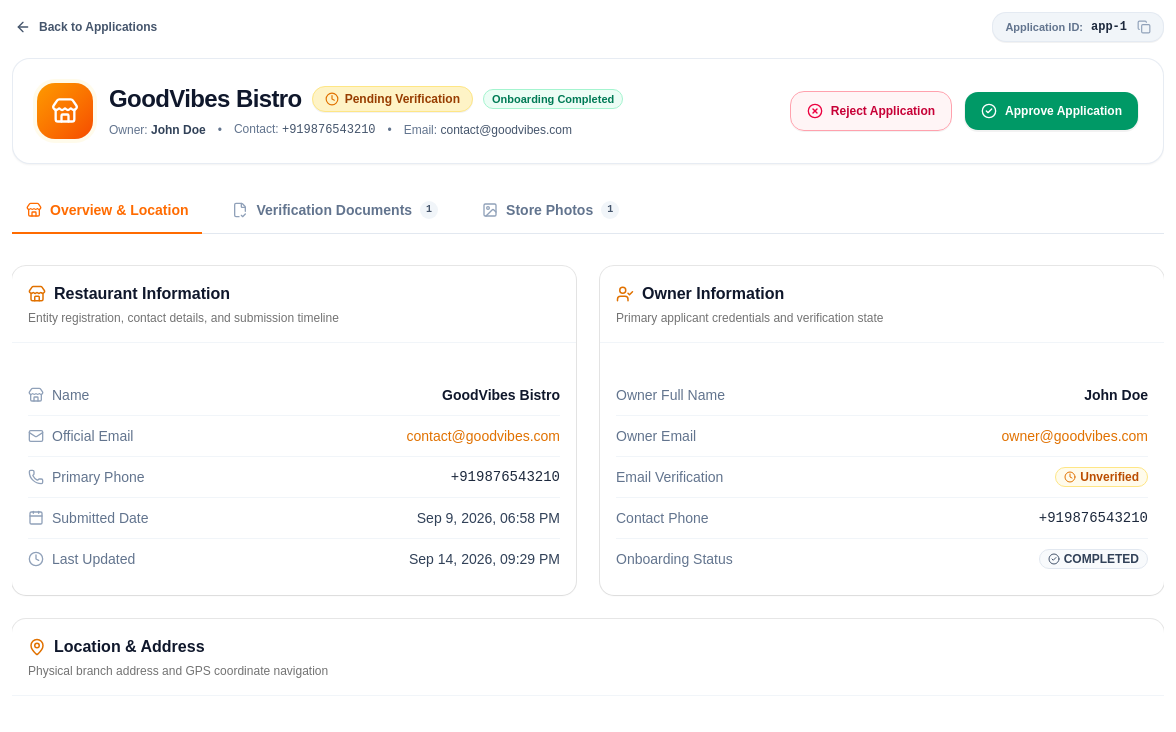
AdminRestaurantApplicationReviewPage › renders review details and switches between tabs
Check: the heading with test id "application-restaurant-name" reads "GoodVibes Bistro", box [109,85,302,112]
// Click Documents tab
Click the button with test id "review-tab-documents". click: (335, 211)
box: [218,188,452,234]
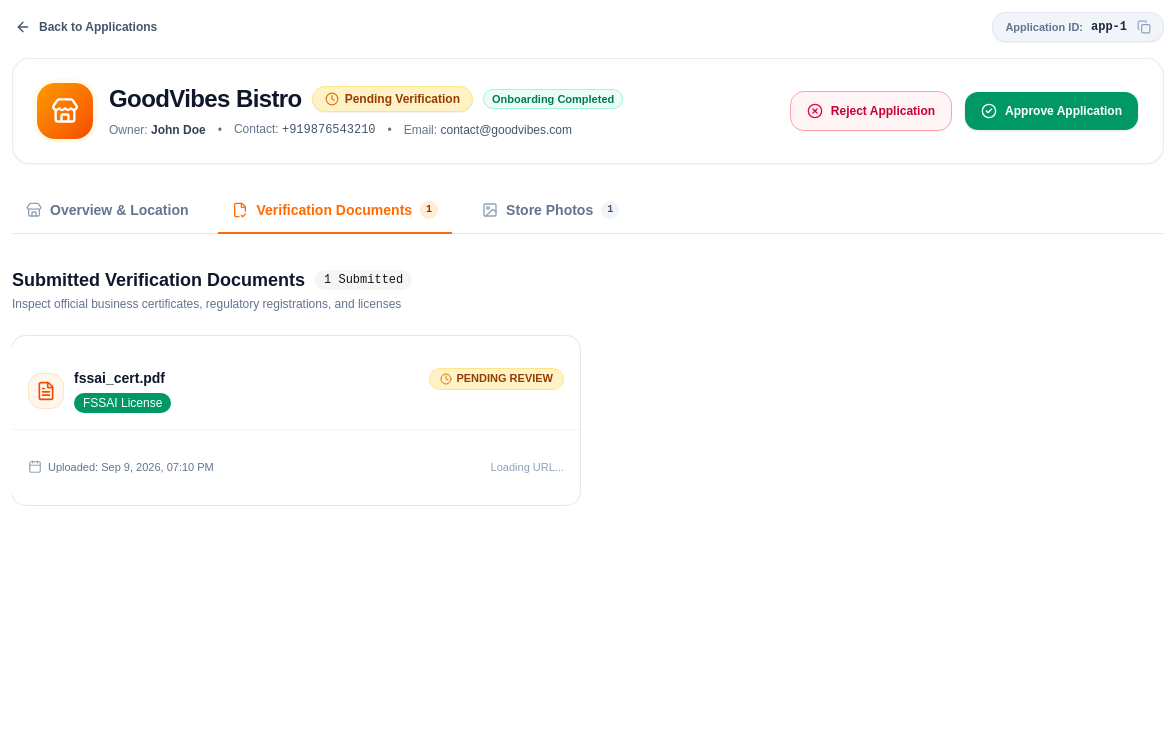
Check: the text "fssai_cert.pdf" is shown, box [74,368,171,388]
// Click Images tab
Click the button with test id "review-tab-images". click: (551, 211)
box: [468,188,633,234]
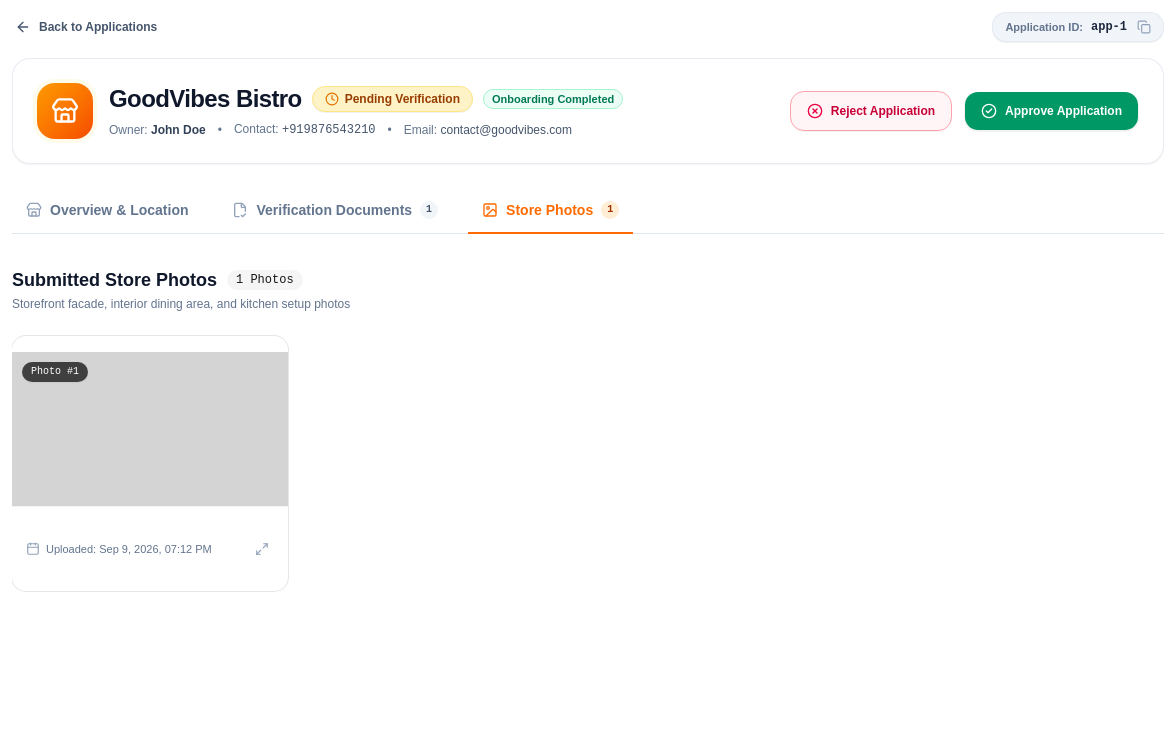
Check: the heading "Submitted Store Photos" is shown, box [12,266,217,294]
